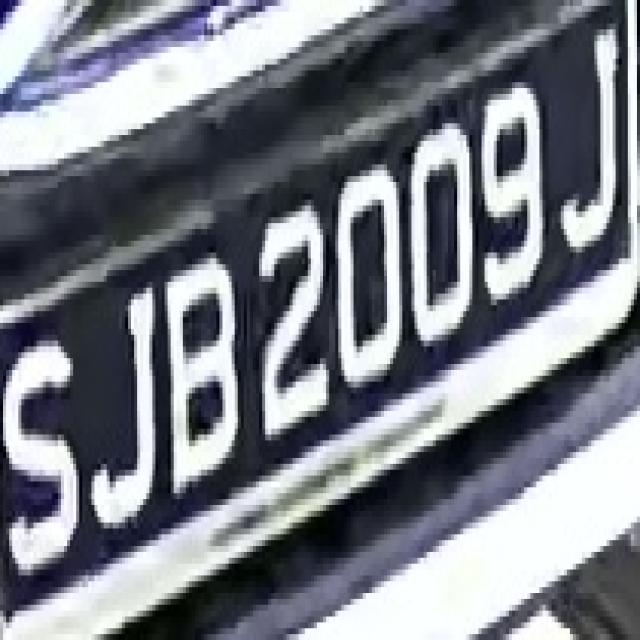0: (320, 153, 399, 417), (406, 94, 484, 358)
2: (250, 177, 332, 440)
9: (478, 65, 546, 323)
B: (158, 235, 241, 505)
J: (73, 258, 165, 534), (554, 12, 624, 270)
S: (6, 311, 79, 587)
